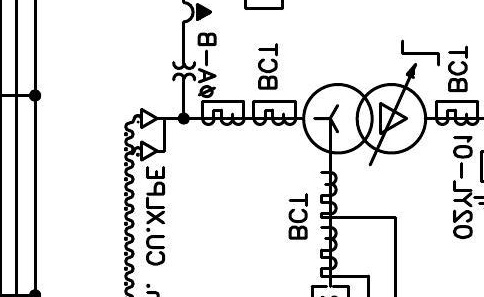11522_tx_dyn1: (301, 82, 428, 155)
terminator_double: (140, 108, 167, 162)
